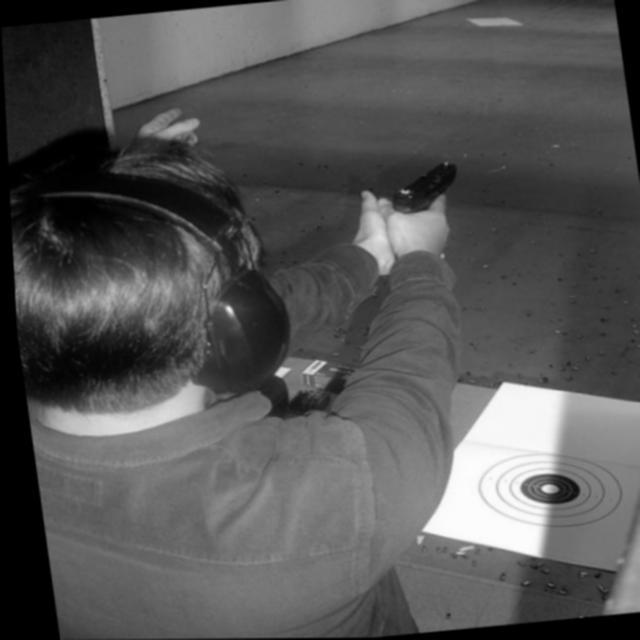weapon: (373, 157, 480, 225)
